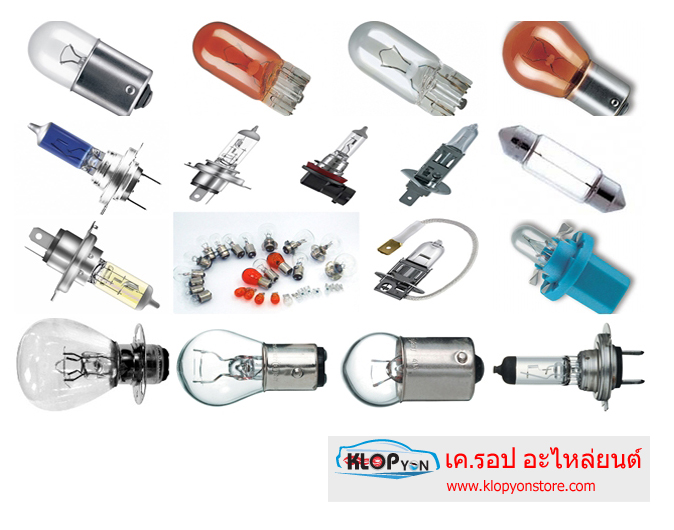Light_bulb: (9, 313, 173, 414), (491, 318, 653, 413), (340, 314, 492, 414), (177, 311, 329, 411), (498, 20, 636, 118), (342, 19, 480, 117), (187, 21, 325, 119), (22, 20, 160, 118), (495, 122, 632, 219), (22, 116, 159, 213), (25, 216, 162, 313), (176, 126, 268, 208), (292, 123, 384, 205), (389, 122, 481, 204)
